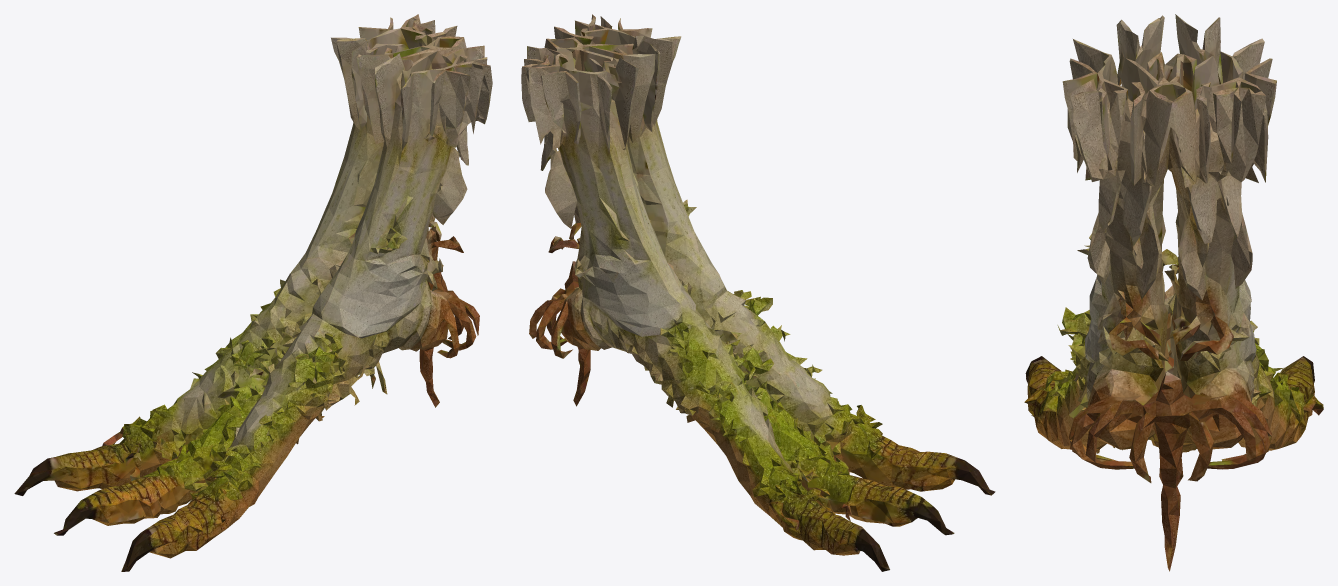
File: foot (73).glb
3 views of the same model, side by side, from view 1: azimuth 30°, elevation 25°; view 2: azimuth 150°, elevation 25°; view 3: azimuth 270°, elevation 25° (orthographic). The views are drawn at different scales.
Parts seen in each view (by area): view 1: Hy21_Mesh.obj; view 2: Hy21_Mesh.obj; view 3: Hy21_Mesh.obj.
Part boxes in pixels (x1,y1,x2,y2): Hy21_Mesh.obj: [14, 14, 492, 571]; Hy21_Mesh.obj: [521, 14, 995, 571]; Hy21_Mesh.obj: [1024, 14, 1323, 571].
Size of the model in its own units: 1.94 by 1.85 by 0.899.
1 material, 1 textured.
